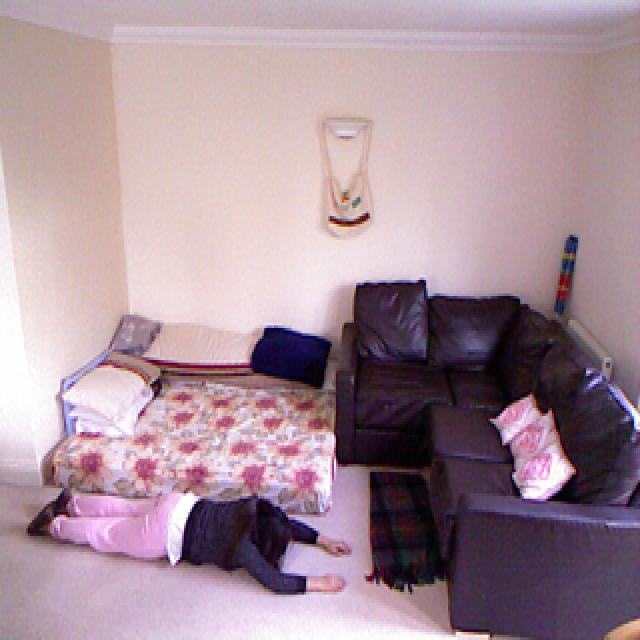lying: (28, 488, 350, 592)
